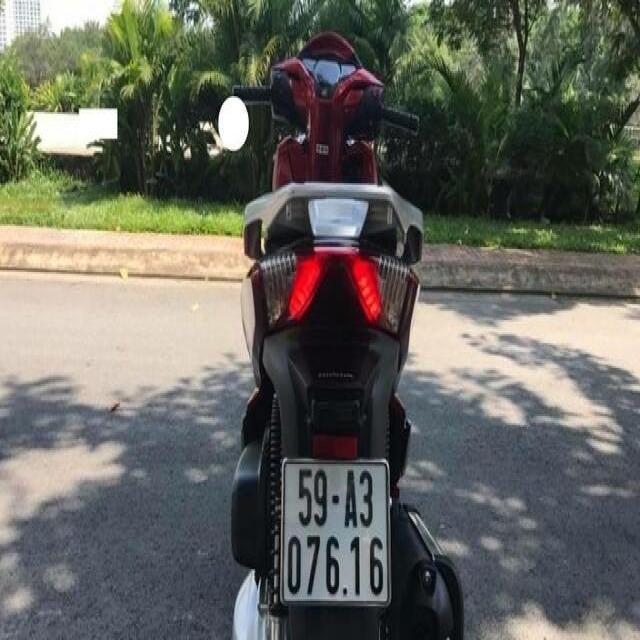motorcycle: (223, 36, 466, 633)
plate: (276, 452, 394, 612)
